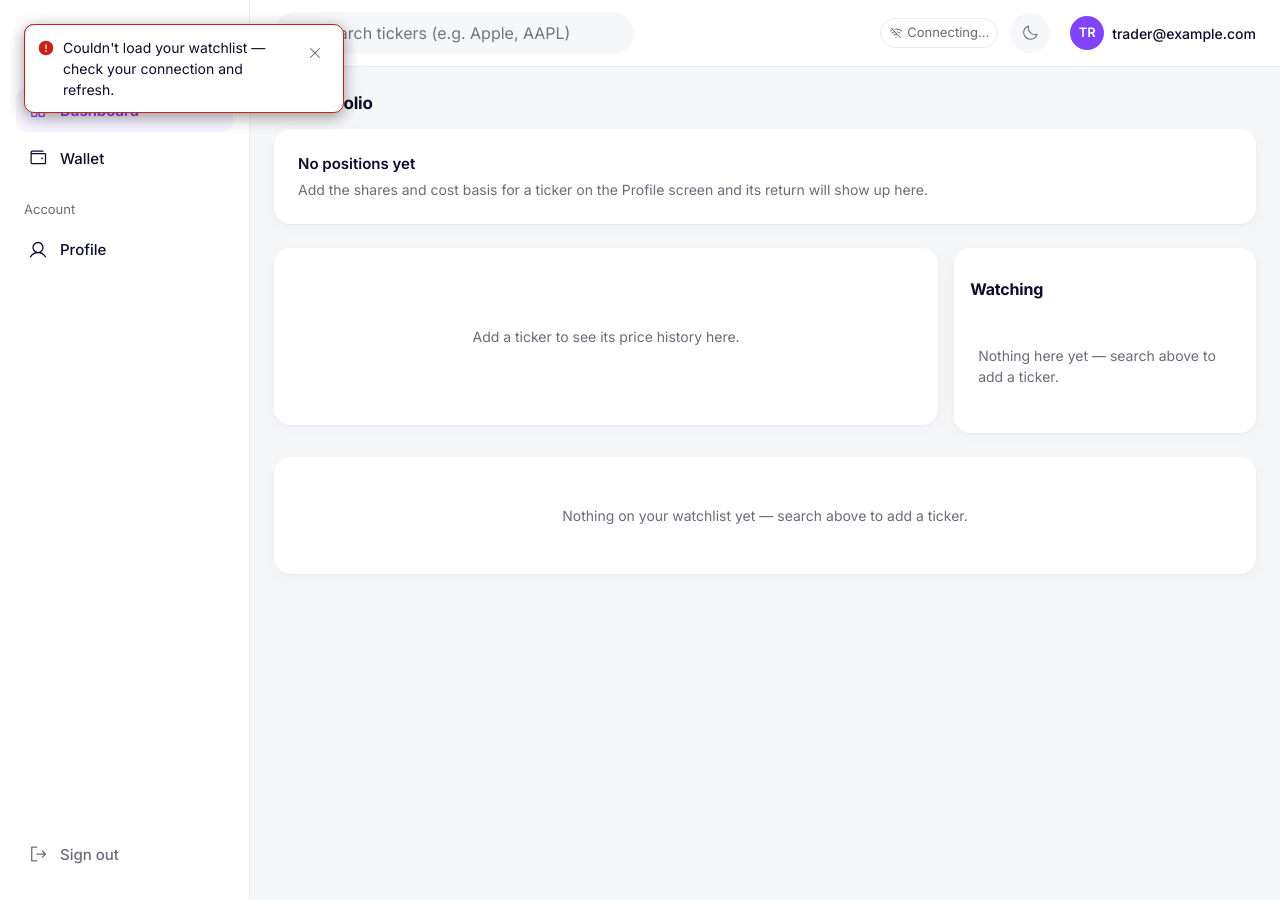
Test case: App — signing out and a different user signing in › doesn't carry the previous user's error toast over to the next signed-in user
Expected: the message "Couldn't load your watchlist — check your connection and refresh." is shown, top-left (24, 24), bottom-right (344, 113)
Click the button "Sign out": (124, 854) top-left (16, 832), bottom-right (233, 876)
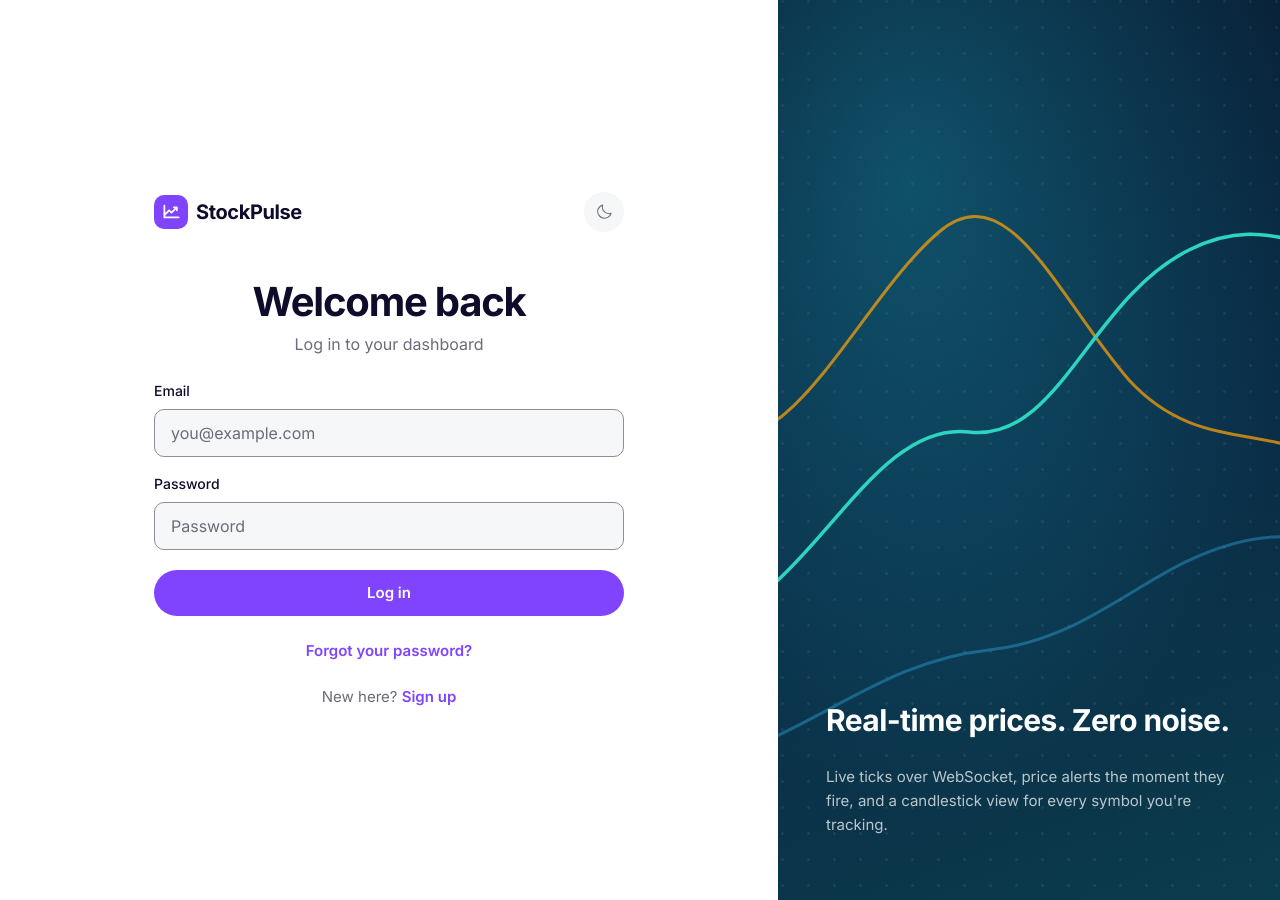
Result: the form "Log in" is shown at top-left (154, 380), bottom-right (624, 616)
In the field labelled "Email": (389, 432) top-left (154, 408), bottom-right (624, 456), type "other@example.com"
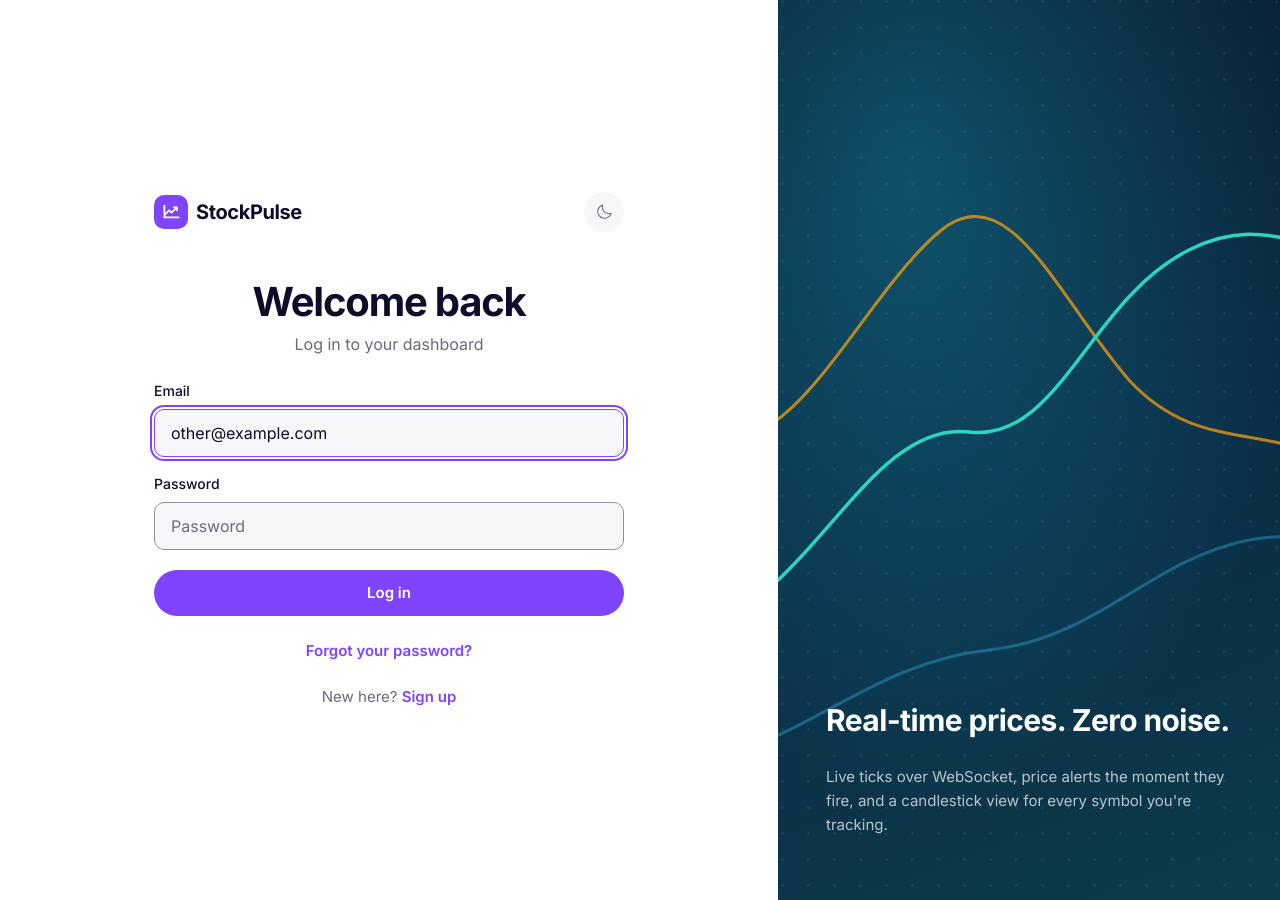
In the password field labelled "Password": (389, 526) top-left (154, 502), bottom-right (624, 550), type "some-password"
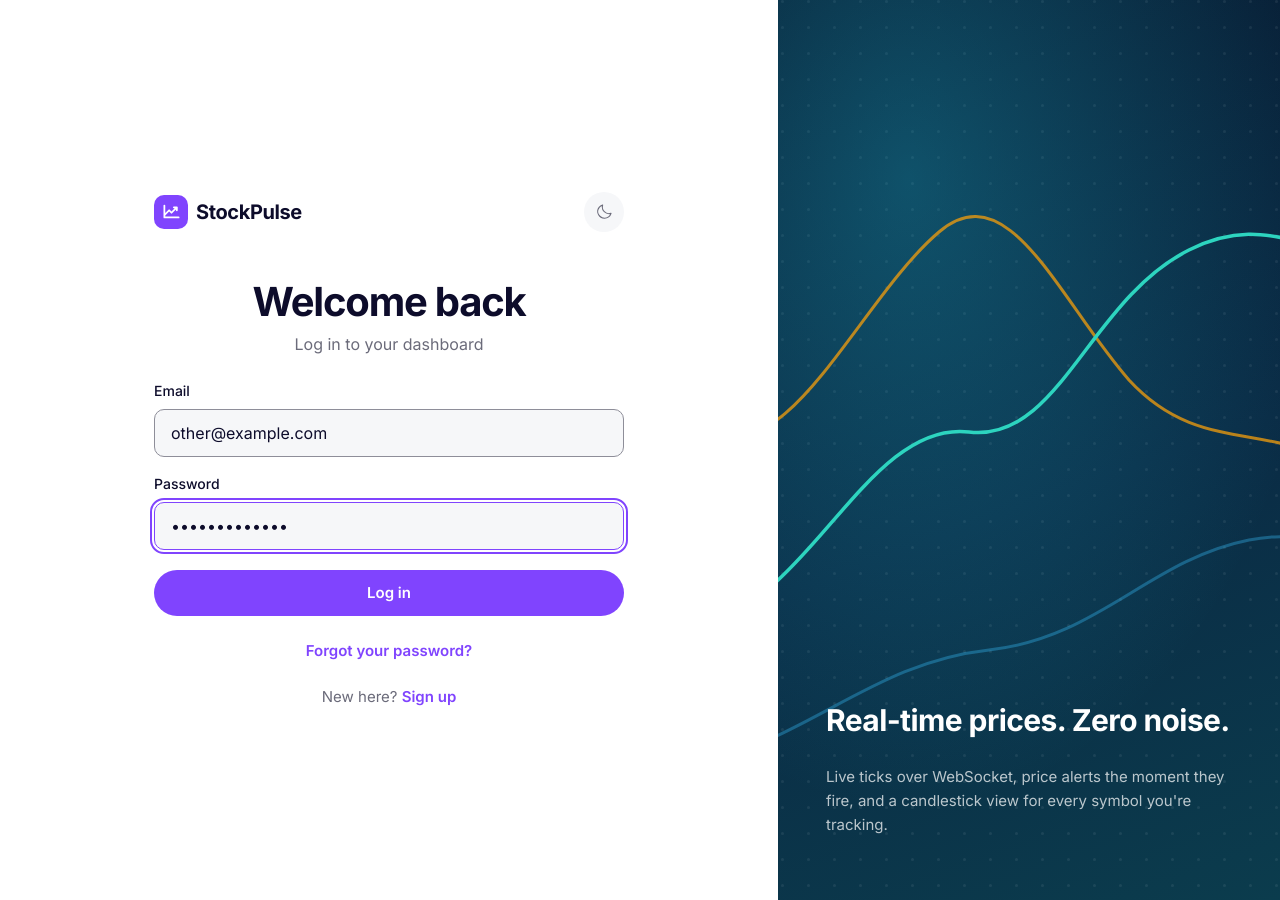
Click the button "Log in": (389, 592) top-left (154, 570), bottom-right (624, 616)
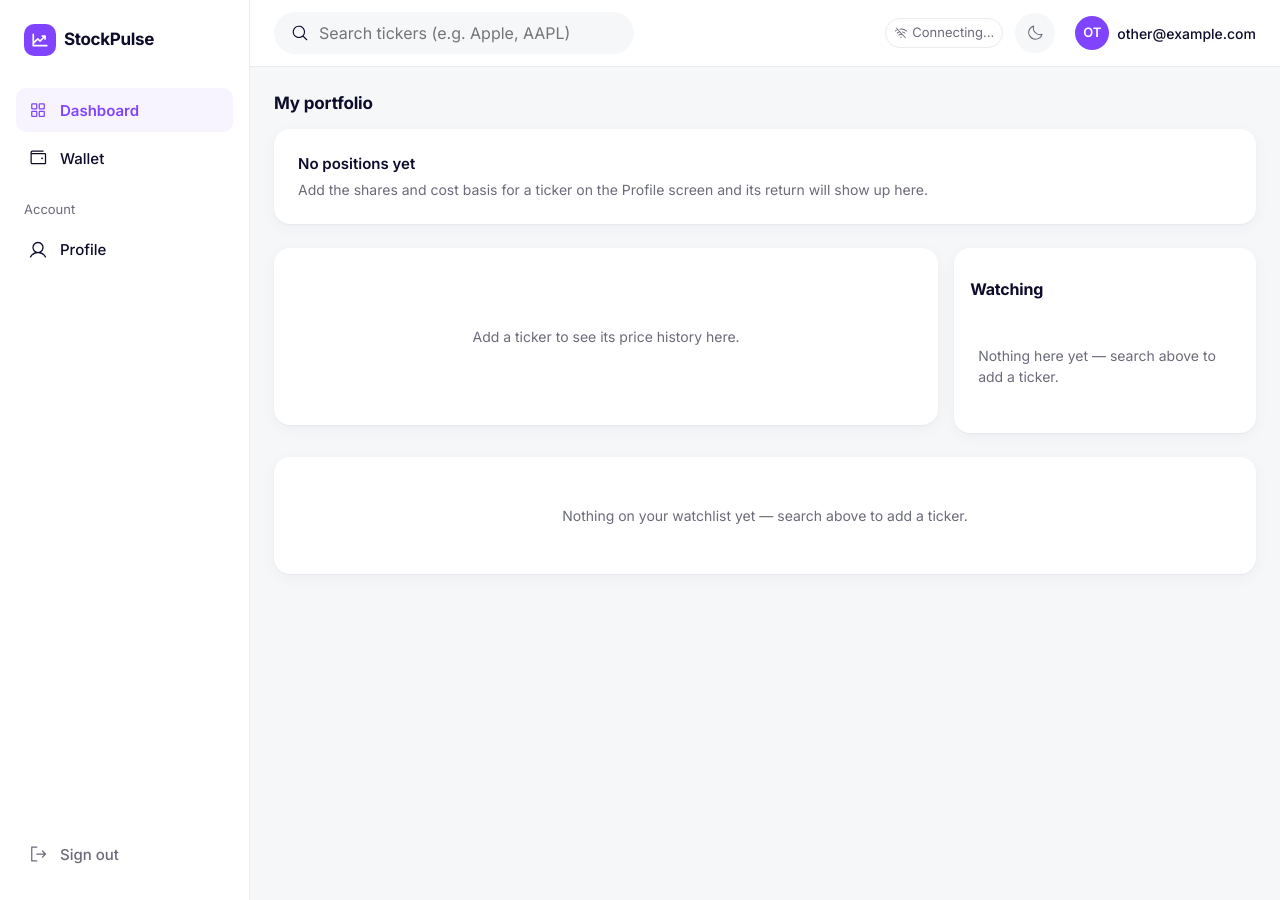
Result: the text "other@example.com" is shown at top-left (1117, 22), bottom-right (1256, 44)
